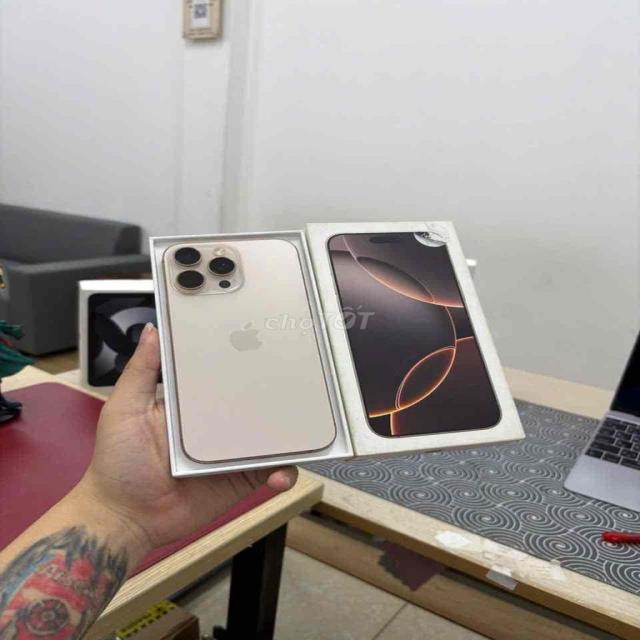gen_16: (150, 232, 350, 476)
